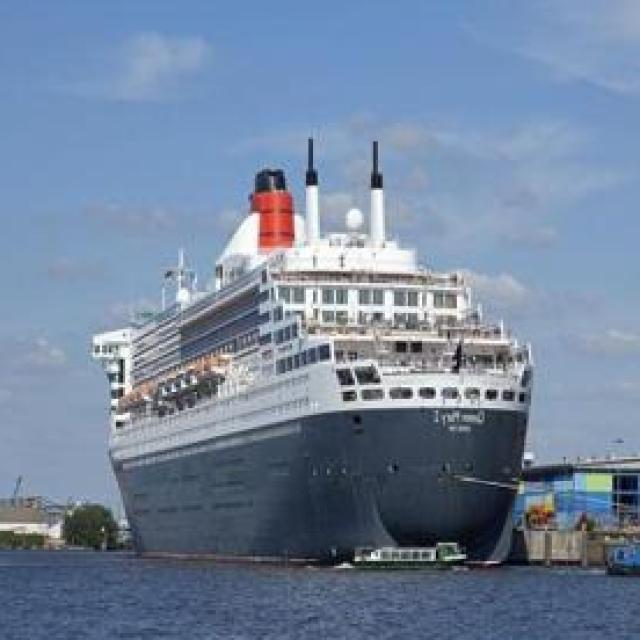houseboat: (343, 540, 470, 574)
passenger ship: (105, 199, 533, 564)
